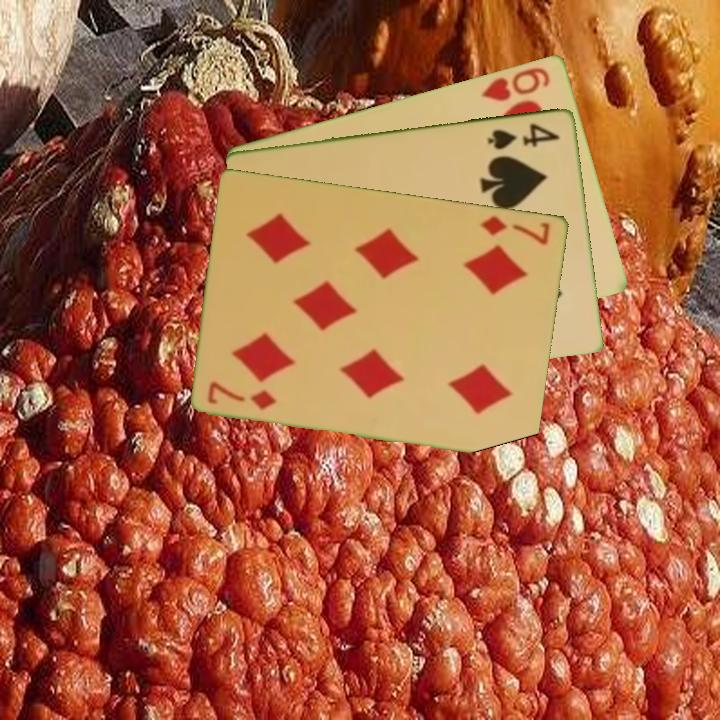4s: (484, 119, 563, 152)
6h: (477, 63, 554, 104)
7d: (477, 212, 553, 248), (204, 377, 280, 412)
